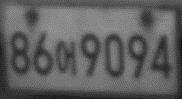0: (103, 33, 126, 77)
4: (149, 33, 173, 80)
6: (32, 30, 54, 75)
8: (9, 32, 31, 74)
9: (127, 32, 149, 80), (80, 32, 101, 76)
어: (54, 40, 77, 78)
